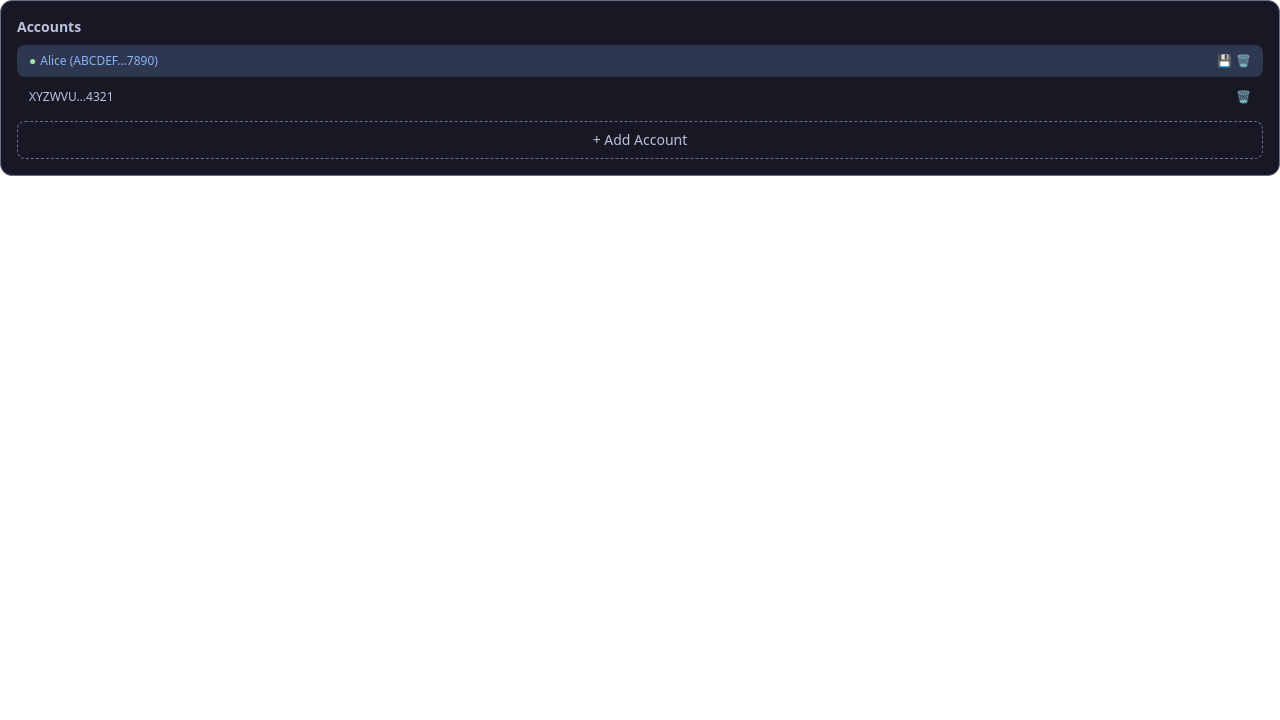
Test: AccountSwitcher › clicking backup button opens KeyExport modal
Click the button titled "Export key backup".
click(1224, 61)  # box [1217,53,1232,69]
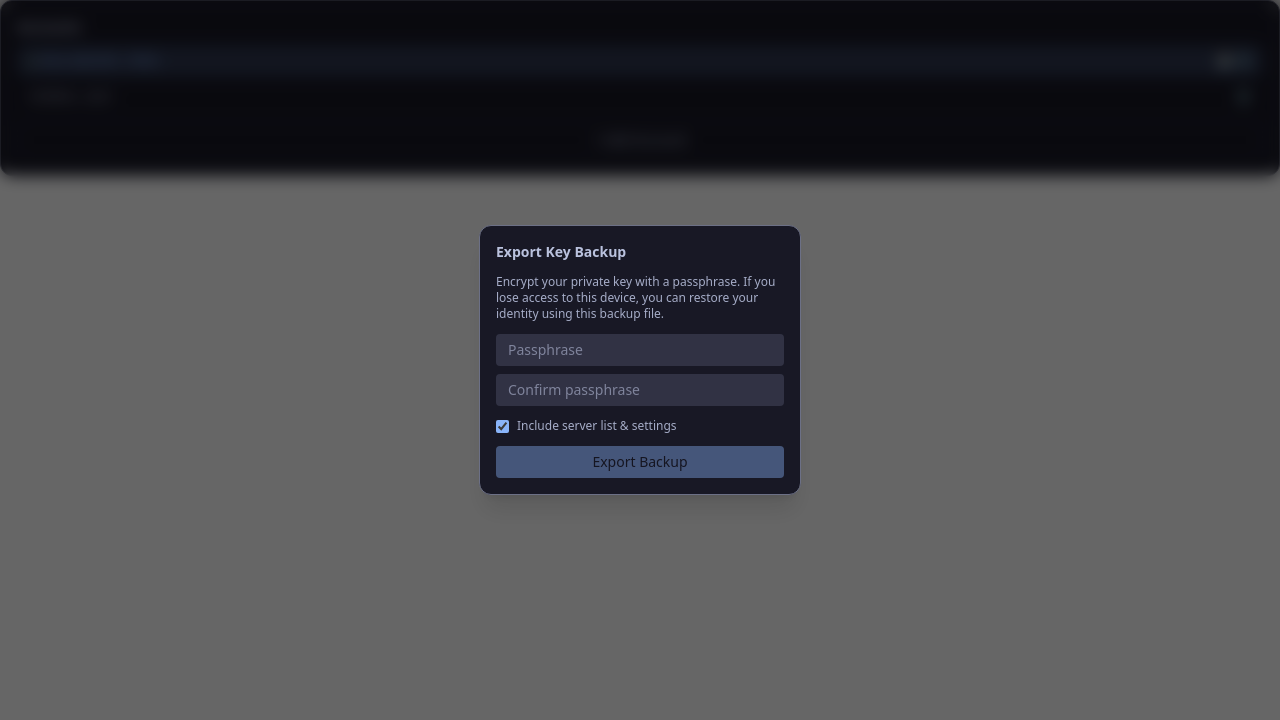
Result: the heading "Export Key Backup" is shown at [496,242,626,261]
